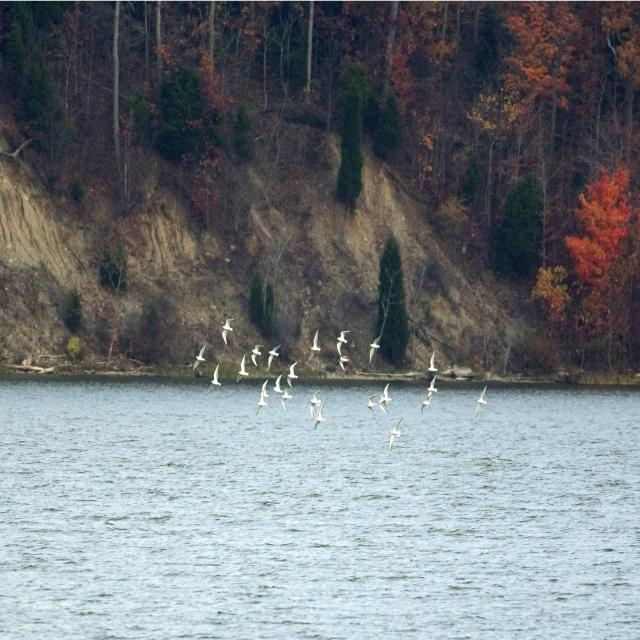bird: (388, 418, 403, 453), (208, 362, 223, 395), (234, 353, 249, 385), (305, 387, 320, 418), (190, 343, 206, 372), (308, 328, 322, 359), (422, 352, 440, 376), (265, 344, 282, 369), (367, 337, 383, 363), (476, 386, 489, 418), (220, 316, 234, 344), (285, 361, 299, 389), (333, 328, 349, 352), (250, 344, 264, 371), (426, 377, 440, 403), (366, 384, 378, 414), (314, 403, 327, 429), (255, 386, 266, 414), (279, 388, 292, 408), (260, 378, 272, 399), (382, 382, 392, 405), (378, 394, 388, 415), (338, 356, 351, 372), (419, 398, 432, 414), (272, 373, 282, 392)
